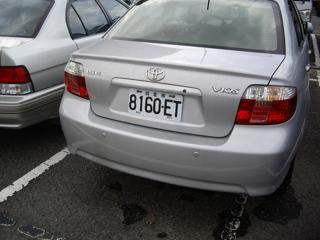plate: (126, 87, 183, 123)
